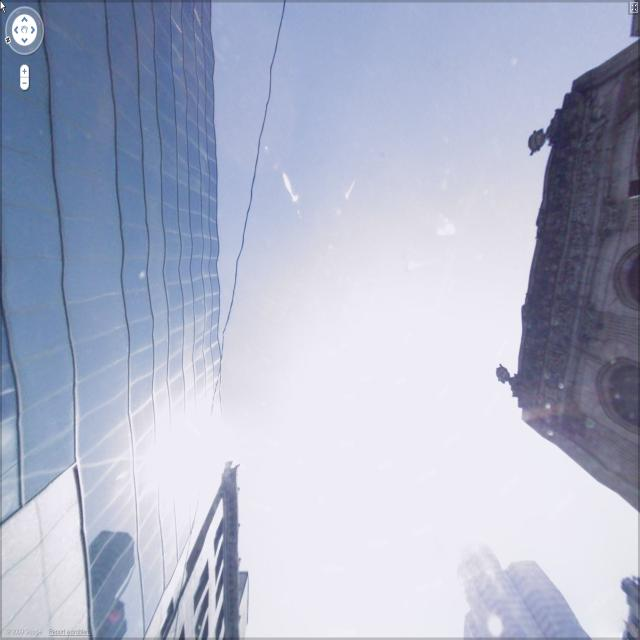b_1: (7, 11, 215, 630), (512, 70, 640, 502), (153, 458, 265, 639), (453, 550, 597, 640)
